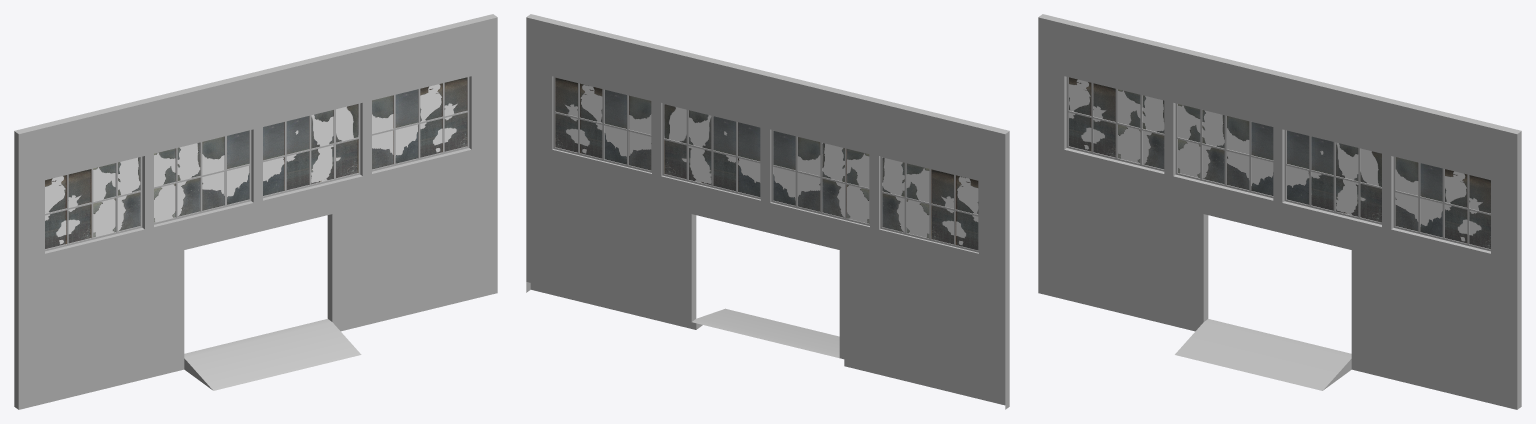
The model's file is Factory1Wall01.FBX.
The picture shows the model from 3 angles, left to right: view 1: azimuth 30°, elevation 25°; view 2: azimuth 150°, elevation 25°; view 3: azimuth 330°, elevation 25°; orthographic projection.
Parts seen in each view (by area): view 1: Factory1Wall01, Factory1Wall01Glass; view 2: Factory1Wall01, Factory1Wall01Glass; view 3: Factory1Wall01, Factory1Wall01Glass.
Boxes of the visible parts, left/top/right/bottom form: Factory1Wall01: left=14, top=14, right=497, bottom=409; Factory1Wall01Glass: left=45, top=77, right=467, bottom=248; Factory1Wall01: left=526, top=14, right=1009, bottom=409; Factory1Wall01Glass: left=555, top=77, right=978, bottom=250; Factory1Wall01: left=1038, top=14, right=1521, bottom=409; Factory1Wall01Glass: left=1069, top=77, right=1490, bottom=249.
Bounding box in the file's own units: 1800 × 990 × 220.
